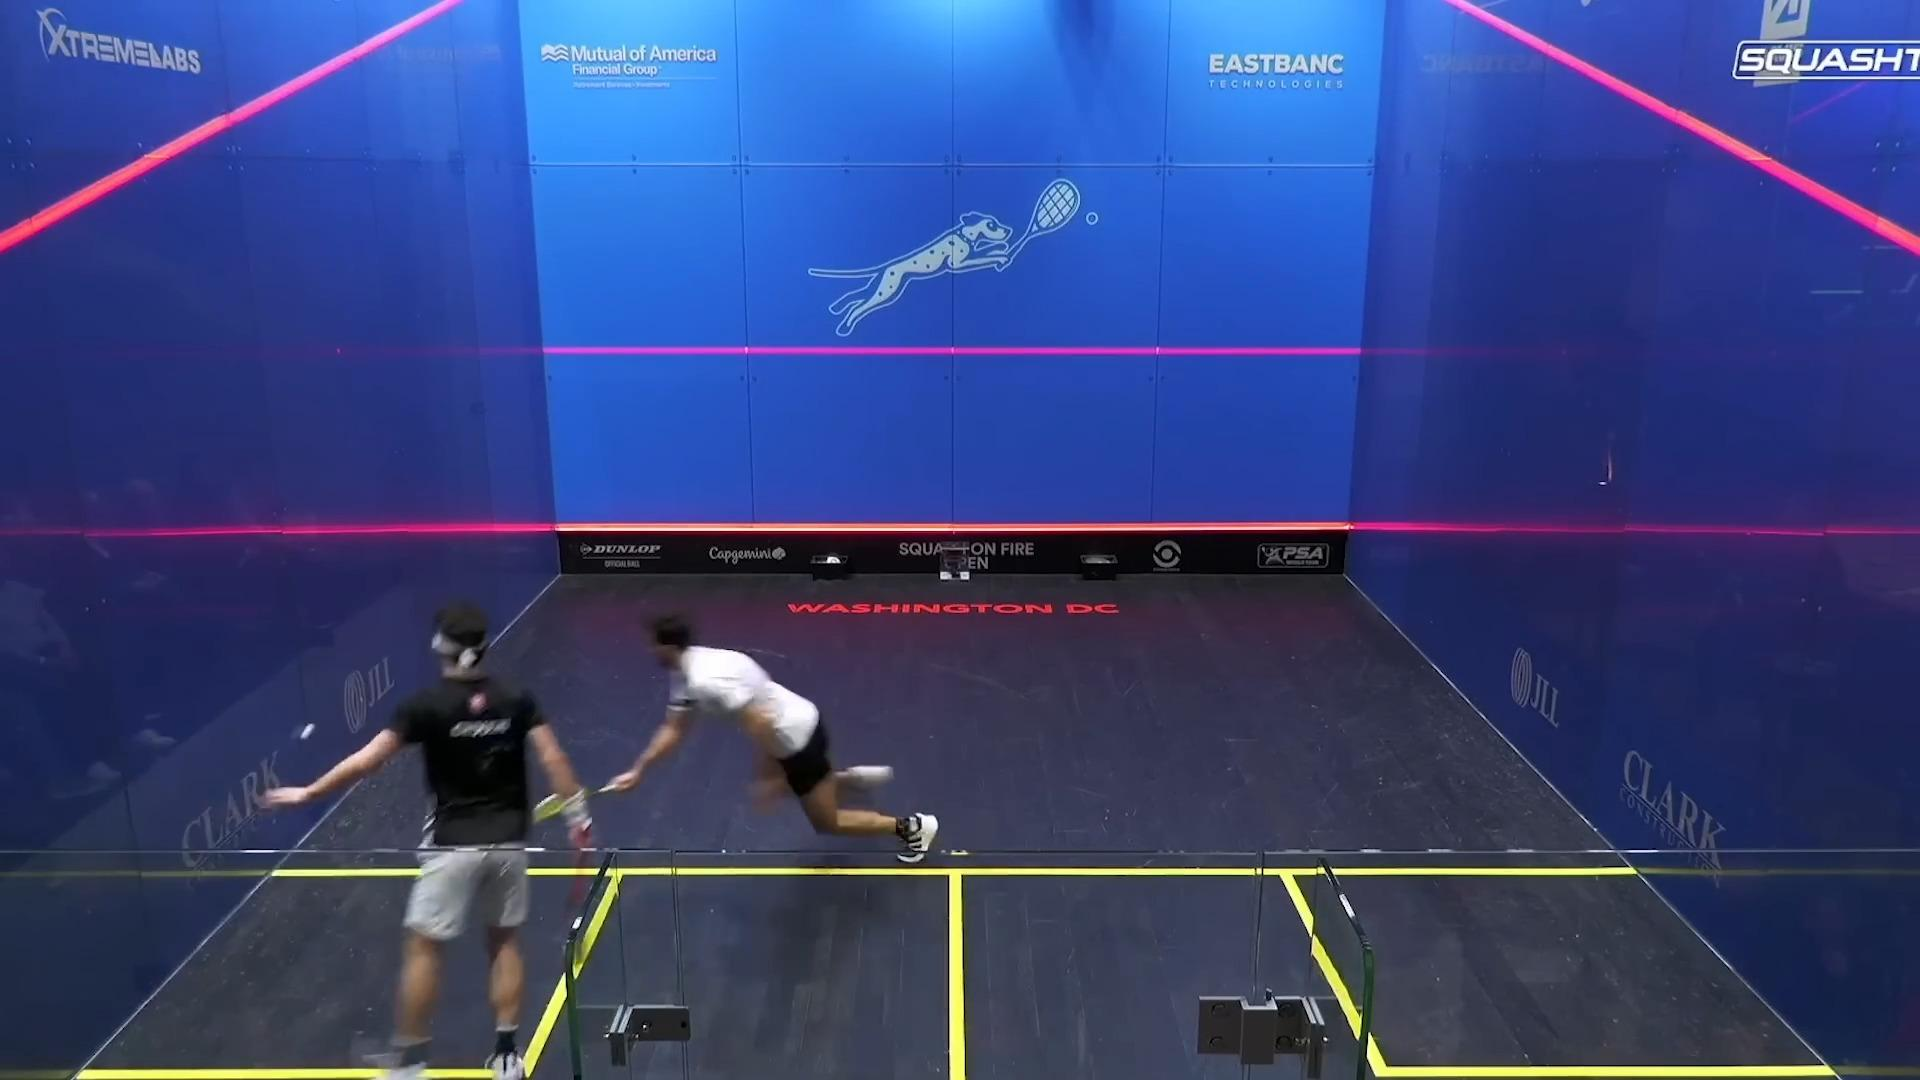Squash-Ball: (281, 708, 330, 758)
